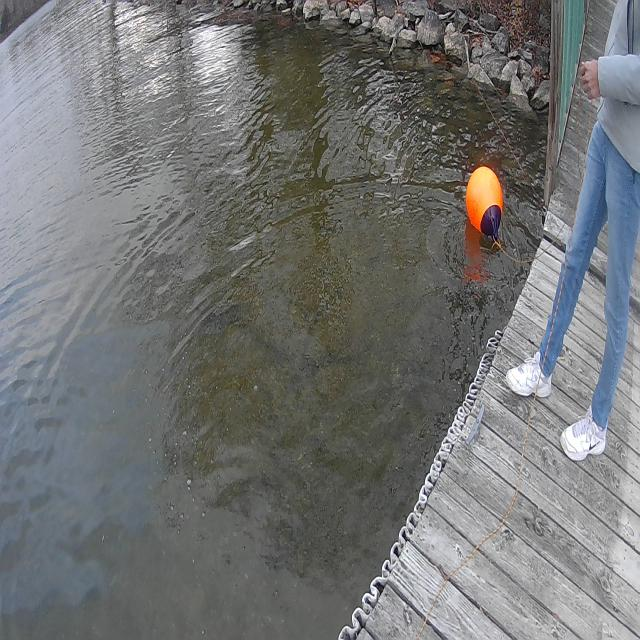Buoy: (465, 163, 505, 230)
